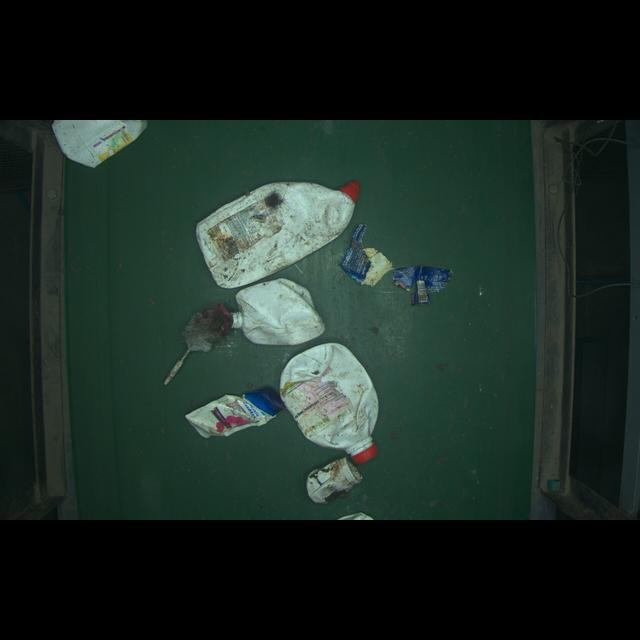mix PET: (189, 160, 351, 282), (263, 341, 387, 469), (344, 223, 459, 323), (170, 378, 291, 447), (223, 279, 338, 345), (49, 117, 151, 163), (301, 456, 368, 503)
